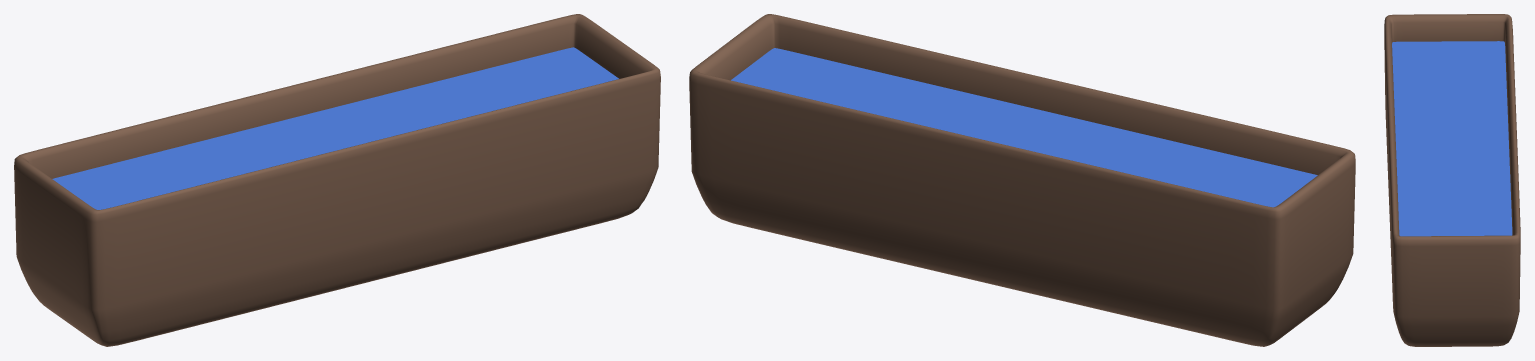
Rendered from farm-water.fbx.
The picture shows the model from 3 angles, left to right: view 1: azimuth 30°, elevation 25°; view 2: azimuth 150°, elevation 25°; view 3: azimuth 270°, elevation 25°; orthographic projection. The views are drawn at different scales.
Visible parts, largest first — view 1: Plane.035; view 2: Plane.035; view 3: Plane.035.
Part boxes in pixels (x1,y1,x2,y2): Plane.035: (14, 14, 660, 346); Plane.035: (689, 14, 1355, 346); Plane.035: (1384, 14, 1520, 346).
Size of the model in its own units: 213 by 52.58 by 54.26.
